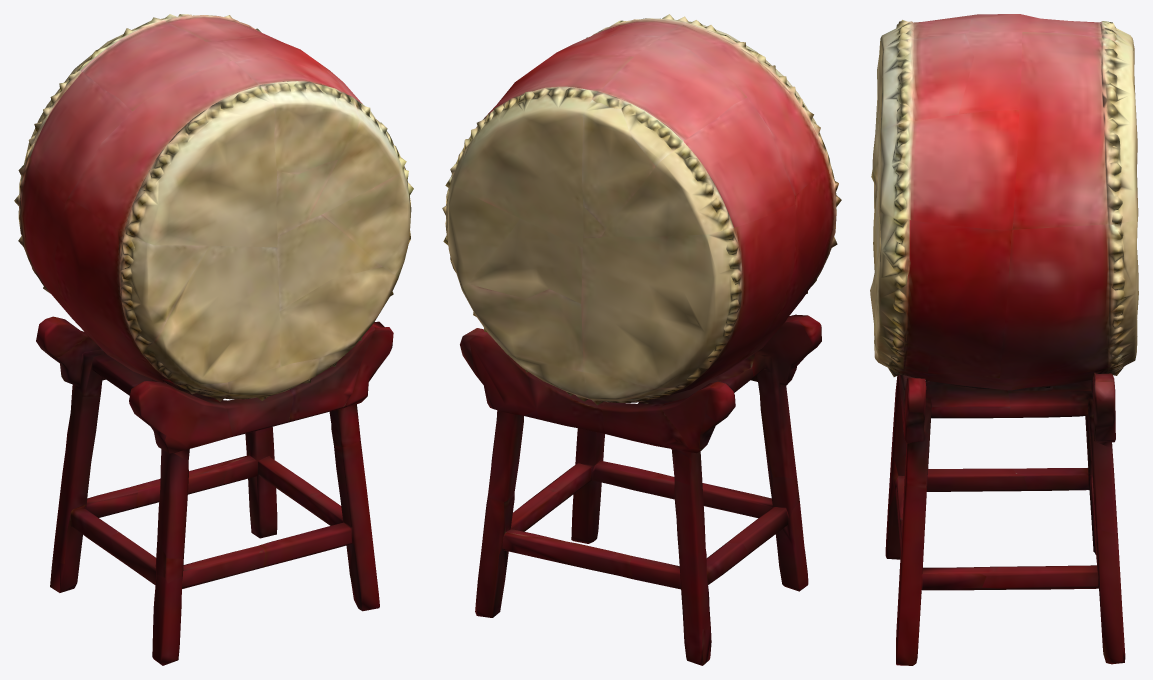
The model's file is drum-low.glb.
The picture shows the model from 3 angles, left to right: view 1: azimuth 30°, elevation 25°; view 2: azimuth 150°, elevation 25°; view 3: azimuth 270°, elevation 25°; orthographic projection. The views are drawn at different scales.
Bounding box in the file's own units: 0.5904 × 0.9965 × 0.4212.
1 material, 1 textured.
